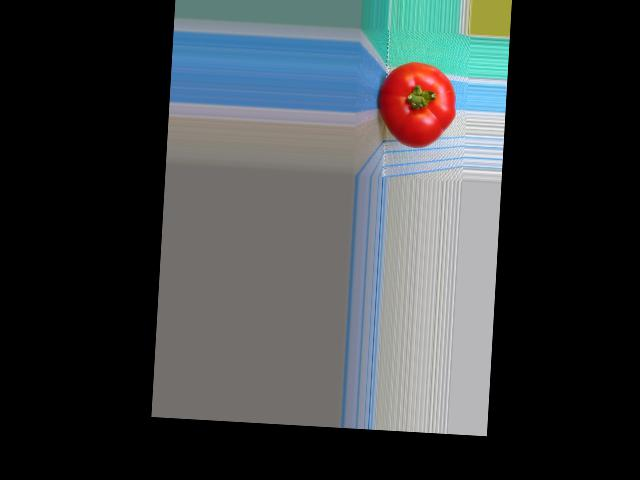tomato: (375, 60, 458, 149)
